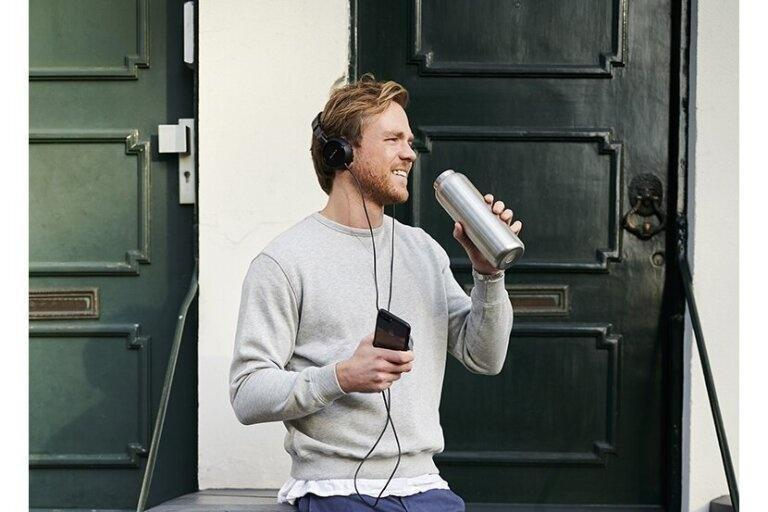gym bottle: (431, 169, 524, 272)
